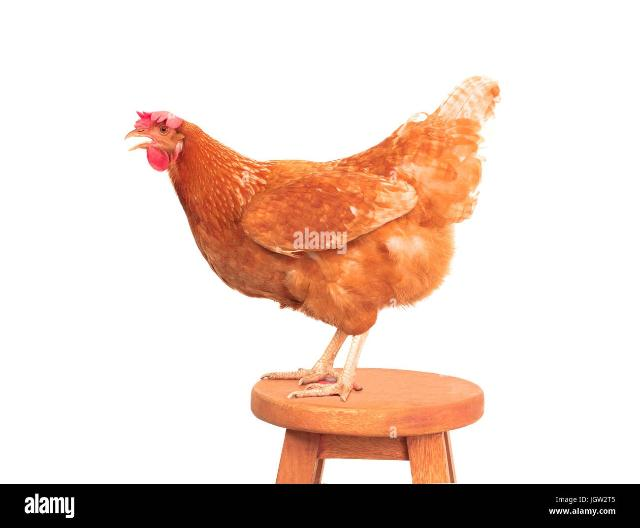Chicken: (122, 69, 505, 405)
